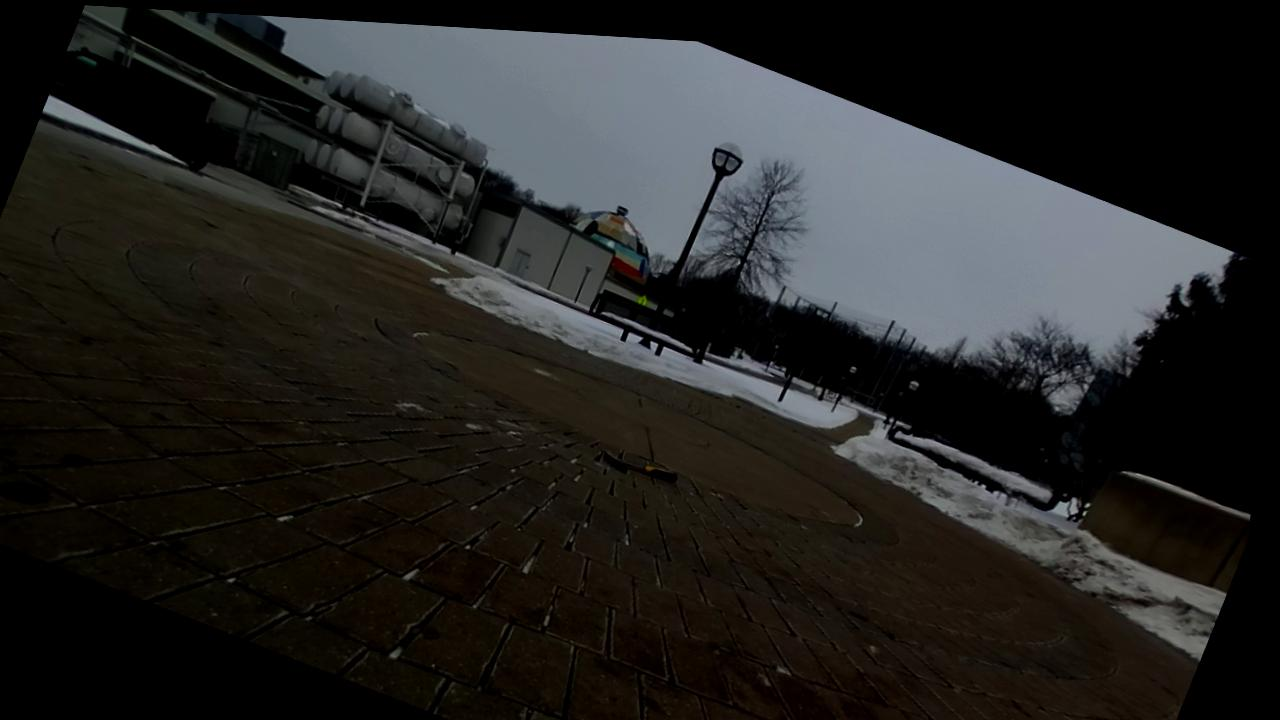pick: (600, 452, 676, 482)
